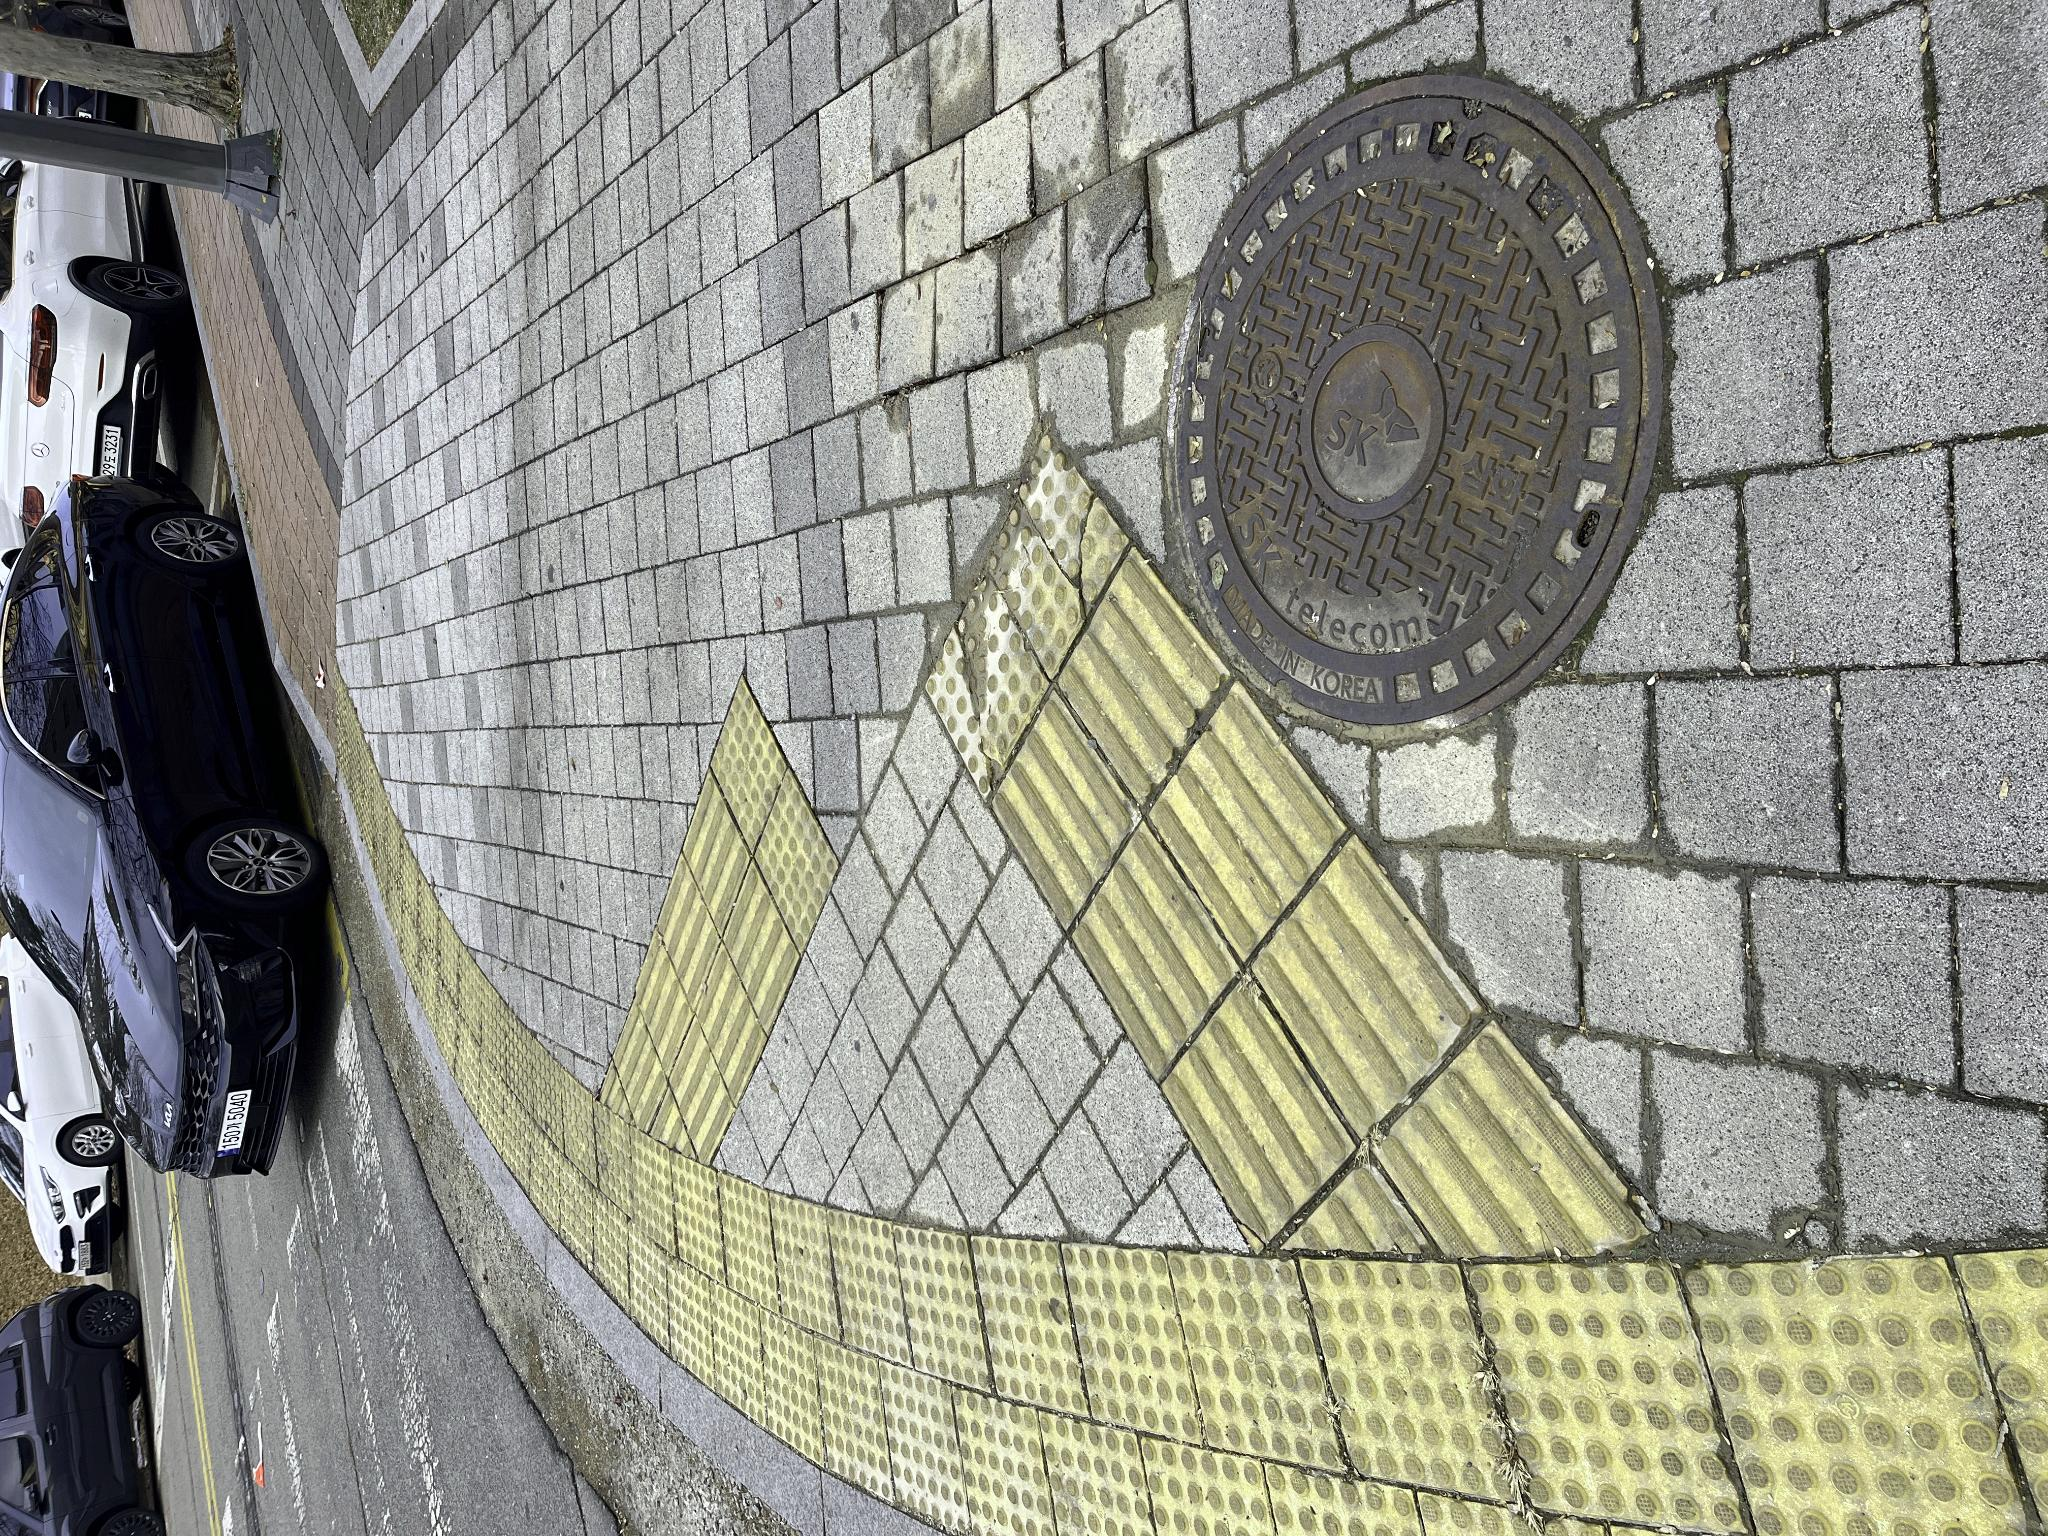Stop block broken: (858, 984, 1103, 1128), (735, 925, 968, 1047)
Stop block normal: (34, 1299, 277, 1520), (66, 1167, 282, 1342), (582, 753, 764, 837), (684, 712, 858, 787)
Straight block broken: (281, 1160, 558, 1354)
Straight block normal: (397, 1250, 703, 1480), (574, 1149, 853, 1344), (732, 1058, 982, 1229), (458, 1073, 713, 1236), (603, 991, 840, 1133)
